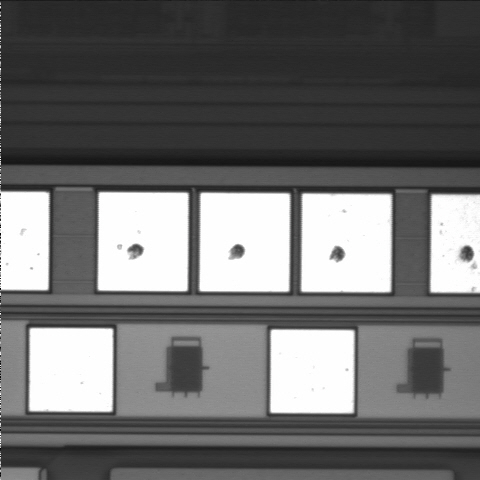pad: (98, 192, 188, 291), (200, 193, 290, 292), (301, 194, 391, 292), (29, 328, 113, 412), (270, 330, 354, 413)
